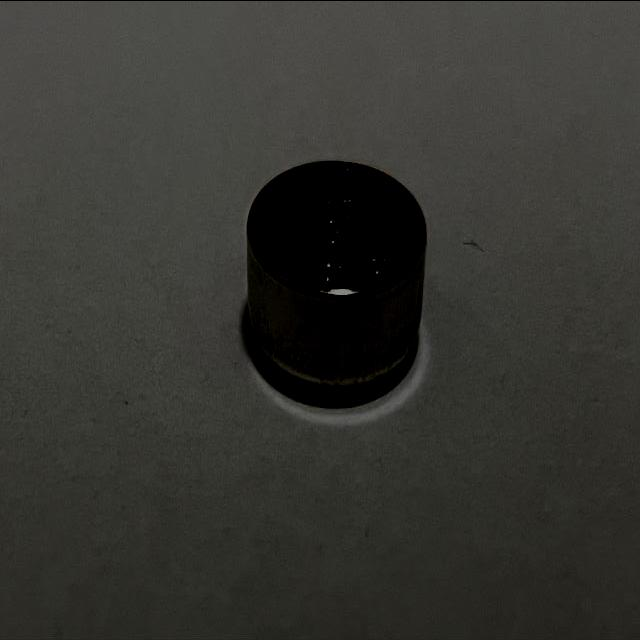COIN: (244, 160, 426, 398)
